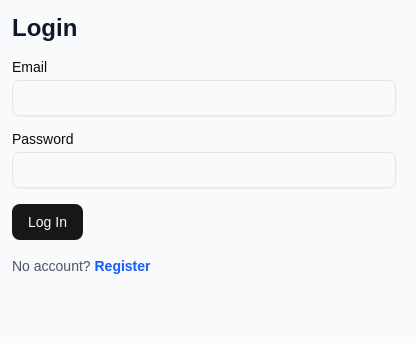
Test: LoginPage › shows schema messages when the form is sent empty
Click the button "Log In": coordinates (47, 222) [12,204,83,240]
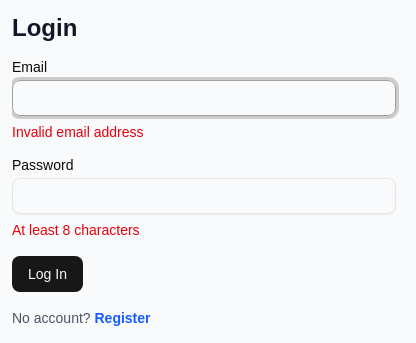
Check: the text "Invalid email address" is shown, box [12,124,144,140]
Check: the text "At least 8 characters" is shown, box [12,222,140,238]
